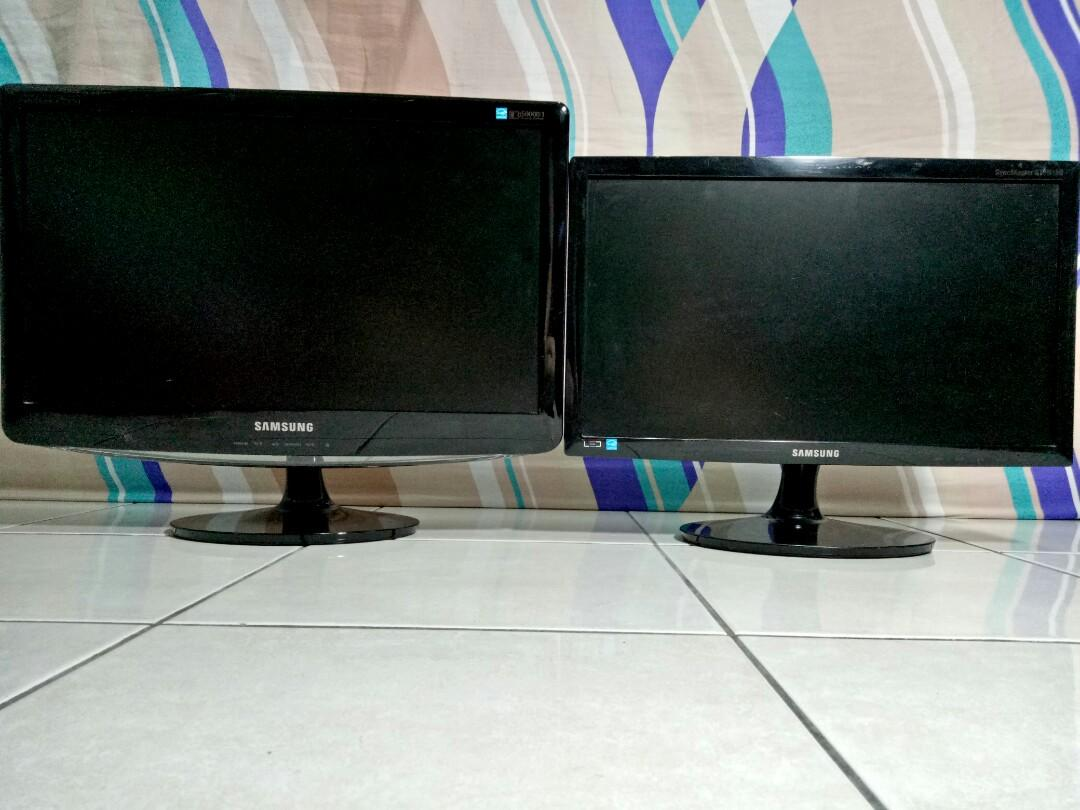samsung-monitor-b2030: (1, 87, 579, 558)
